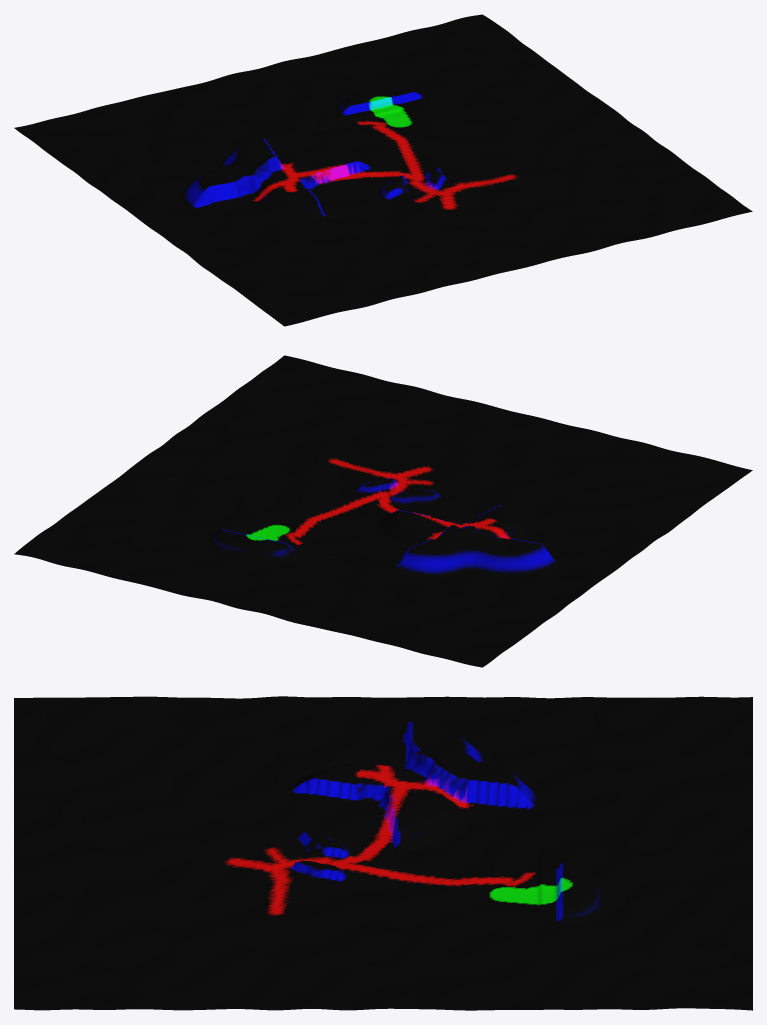
File: terrain.glb
The picture shows the model from 3 angles, top to bottom: view 1: azimuth 30°, elevation 25°; view 2: azimuth 150°, elevation 25°; view 3: azimuth 270°, elevation 25°; orthographic projection. The views are drawn at different scales.
Parts seen in each view (by area): view 1: terrain; view 2: terrain; view 3: terrain.
Boxes of the visible parts, <box> form: terrain: <box>14,14,752,326</box>; terrain: <box>14,355,752,667</box>; terrain: <box>14,696,752,1010</box>.
Size of the model in its own units: 150 by 7.19 by 150.
